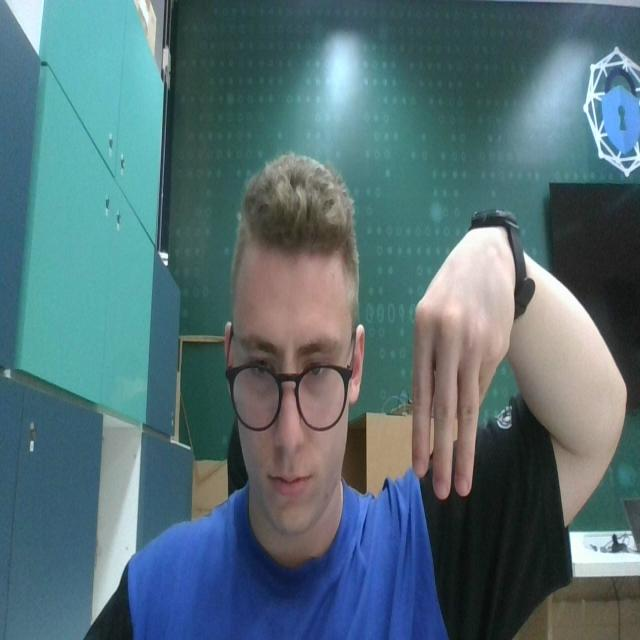M: (409, 224, 512, 503)
